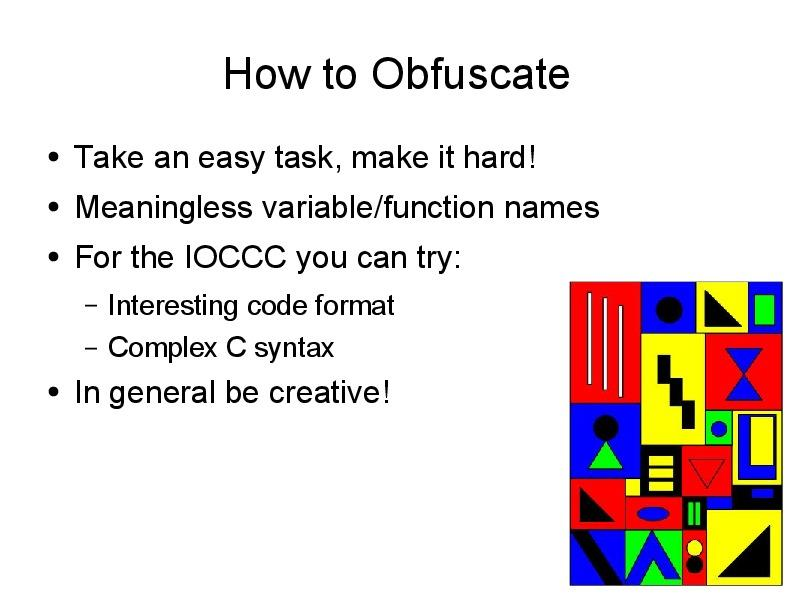paragraph: (65, 126, 611, 427)
title: (212, 47, 576, 109)
